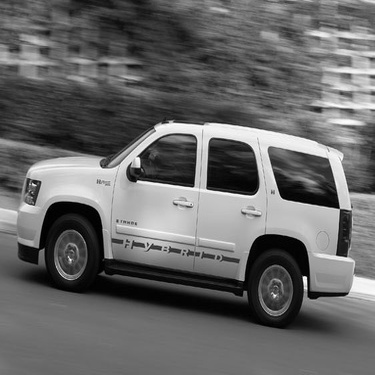car: (24, 116, 365, 324)
